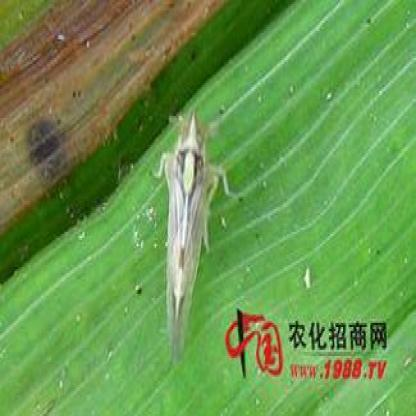brown-planthopper: (155, 112, 219, 365)
